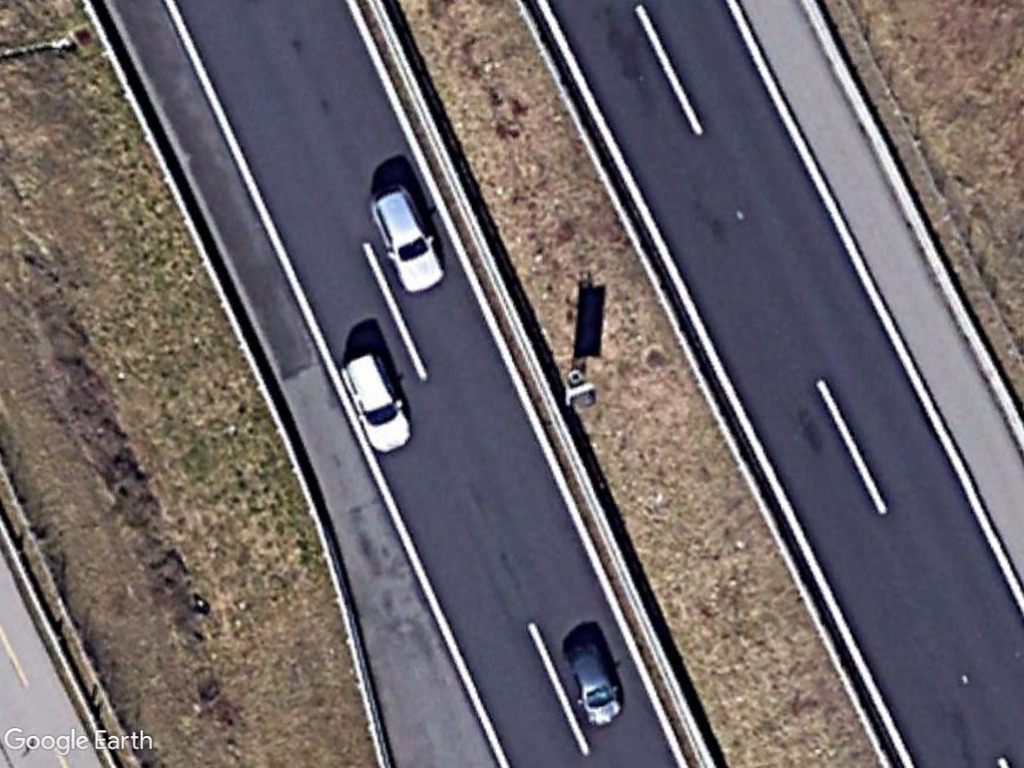car: (364, 181, 449, 300), (336, 351, 416, 455), (562, 640, 625, 729)
